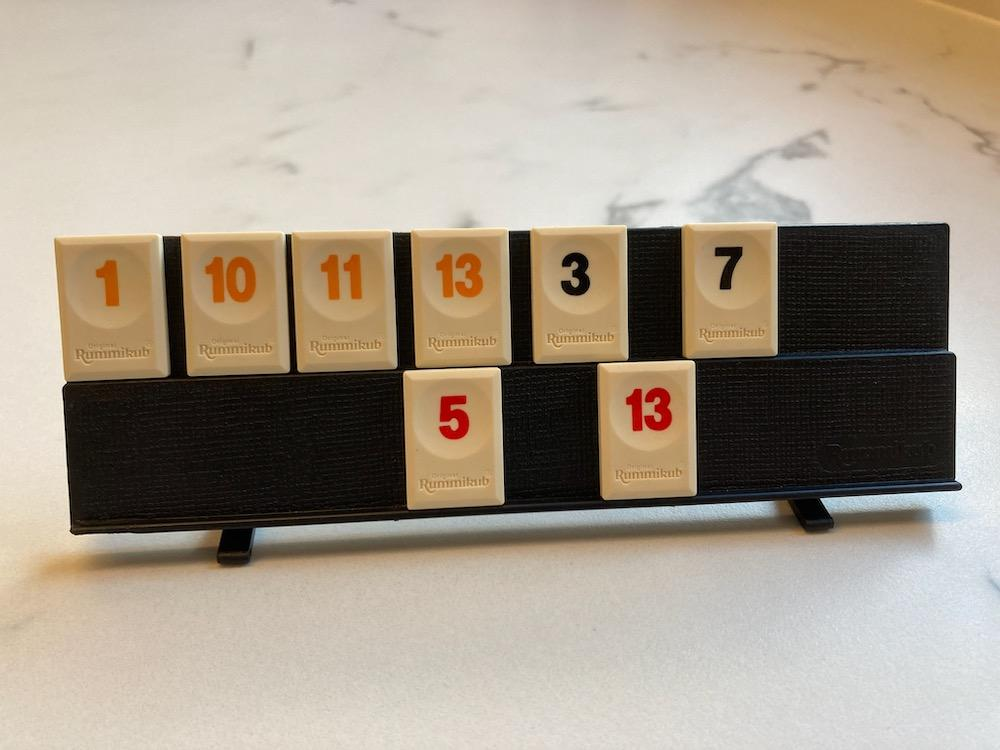black_3: (532, 228, 627, 361)
black_7: (684, 225, 777, 359)
orange_1: (56, 234, 170, 381)
orange_10: (180, 234, 289, 377)
orange_11: (293, 231, 398, 373)
orange_13: (412, 231, 512, 366)
red_13: (598, 359, 695, 500)
red_5: (404, 367, 503, 509)
